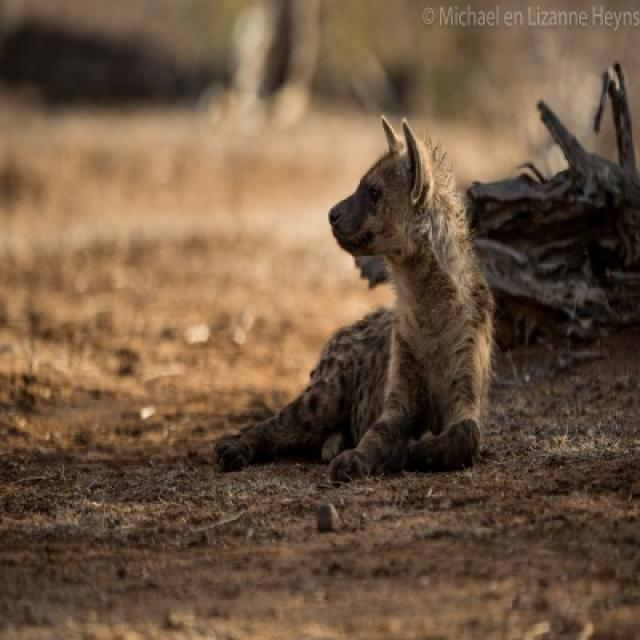hyena: (266, 117, 493, 478)
